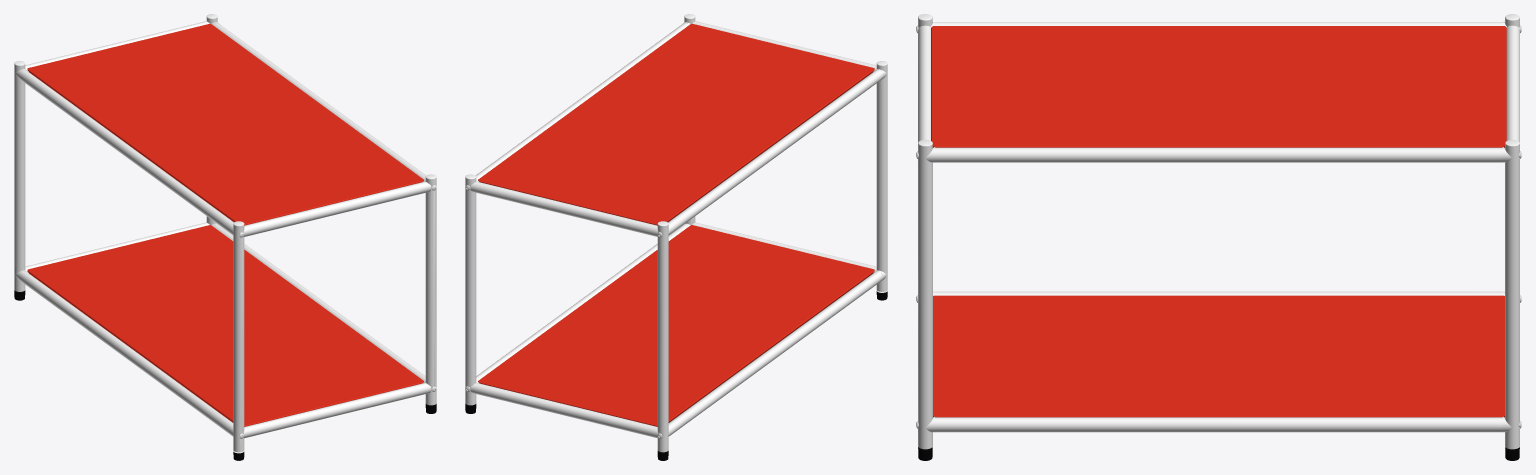
The model's file is 80x40x40-1-1-red_optimized_optimized.glb.
3 views of the same model, side by side, from view 1: azimuth 30°, elevation 25°; view 2: azimuth 150°, elevation 25°; view 3: azimuth 270°, elevation 25° (orthographic). The views are drawn at different scales.
Visible parts, largest first — view 1: 直角鐵板-80x40-5 - 零件, new-上塞-1 - 零件; view 2: 直角鐵板-80x40-5 - 零件, new-上塞-1 - 零件; view 3: 直角鐵板-80x40-5 - 零件, new-上塞-1 - 零件.
Boxes of the visible parts, box(x1,y1,x2,y2) form: 直角鐵板-80x40-5 - 零件: box(27, 23, 423, 426); new-上塞-1 - 零件: box(14, 14, 436, 460); 直角鐵板-80x40-5 - 零件: box(478, 23, 874, 426); new-上塞-1 - 零件: box(465, 14, 887, 452); 直角鐵板-80x40-5 - 零件: box(931, 26, 1506, 417); new-上塞-1 - 零件: box(916, 14, 1521, 449).
Bounding box in the file's own units: 0.3992 × 0.4453 × 0.7732.
